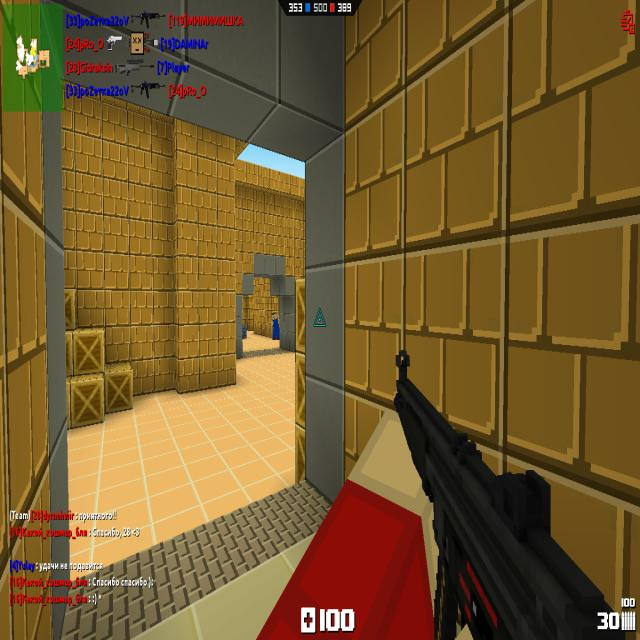enemy: (271, 311, 280, 340)
